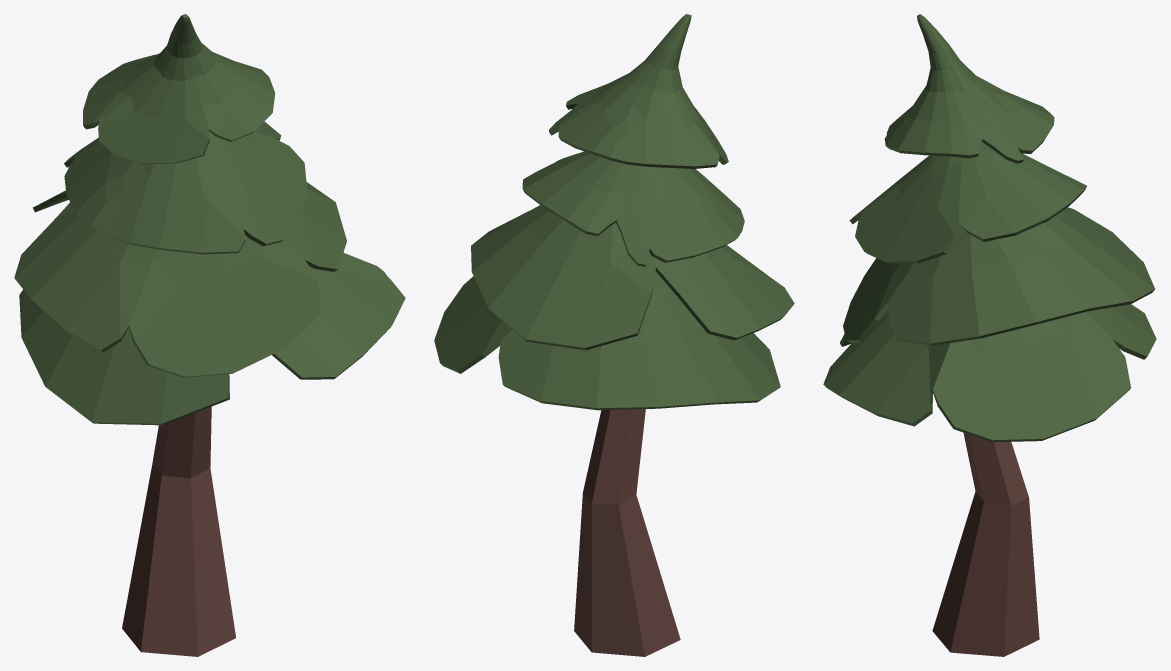
The model's file is PineTree_5.glb.
The picture shows the model from 3 angles, left to right: view 1: azimuth 30°, elevation 25°; view 2: azimuth 150°, elevation 25°; view 3: azimuth 270°, elevation 25°; orthographic projection. The views are drawn at different scales.
Parts seen in each view (by area): view 1: PineTree_5; view 2: PineTree_5; view 3: PineTree_5.
Boxes of the visible parts, bbox=[...] form: PineTree_5: bbox=[14, 14, 405, 656]; PineTree_5: bbox=[434, 14, 794, 656]; PineTree_5: bbox=[823, 14, 1156, 656].
Size of the model in its own units: 1.47 by 2.69 by 1.34.
